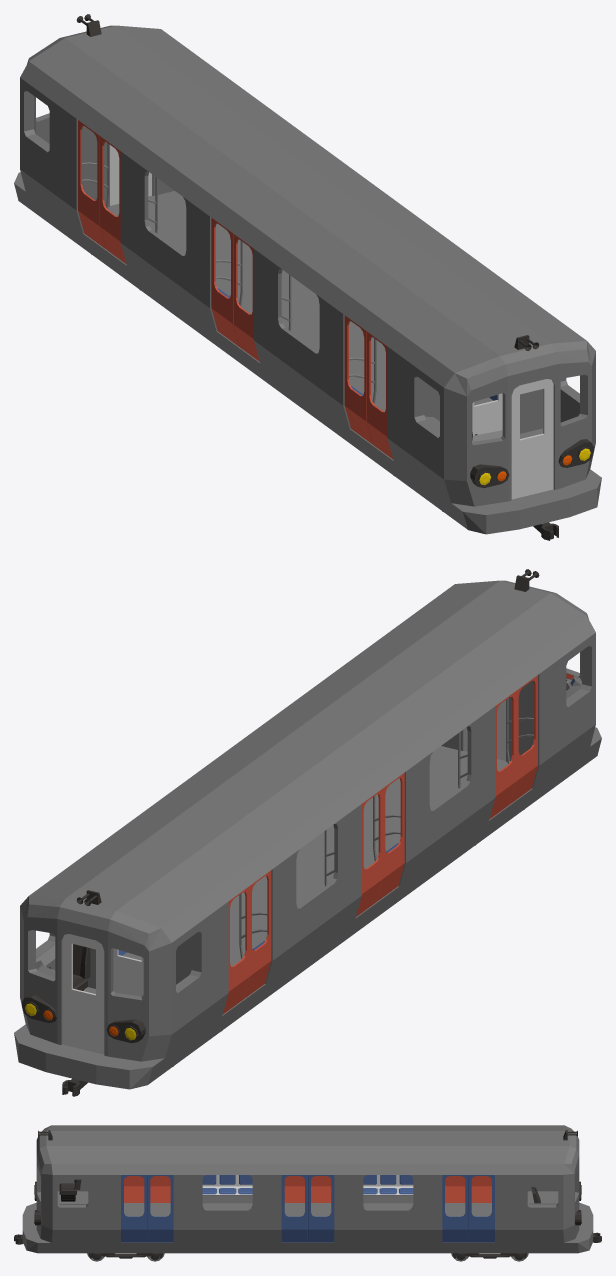
The model's file is Subways.fbx.
3 views of the same model, one above another, from view 1: azimuth 30°, elevation 25°; view 2: azimuth 150°, elevation 25°; view 3: azimuth 270°, elevation 25° (orthographic). The views are drawn at different scales.
Parts seen in each view (by area): view 1: SM_Subway_Car, SM_Subway_Rear_Door_01, Left_3, Left_2, Left, Right_2, Right_3, Right, SM_Subway_Rear_Door_02; view 2: SM_Subway_Car, SM_Subway_Front_Door_01, Right_2, Right, Right_3, Left, Left_2, Left_3, SM_Subway_Front_Door_02; view 3: SM_Subway_Car, Right_5, Right_4, Left_4, Left_5, Right_6, Left_6, Right, Right_3, Left_3, Left, Right_2 (+3 smaller).
Part boxes in pixels (x1,y1,x2,y2): SM_Subway_Car: (14,14,601,540); SM_Subway_Rear_Door_01: (511,379,553,499); Left_3: (344,315,372,444); Left_2: (211,218,239,346); Left: (78,120,105,248); Right_2: (233,234,259,361); Right_3: (367,331,392,458); Right: (100,136,126,263); SM_Subway_Rear_Door_02: (472,393,502,435); SM_Subway_Car: (14,569,601,1096); SM_Subway_Front_Door_01: (62,934,104,1054); Right_2: (376,773,404,901); Right: (243,870,271,999); Right_3: (510,675,537,803); Left: (223,886,249,1014); Left_2: (356,789,382,916); Left_3: (489,691,515,818); SM_Subway_Front_Door_02: (113,948,143,996); SM_Subway_Car: (14,1125,601,1253); Right_5: (147,1175,173,1242); Right_4: (468,1175,494,1242); Left_4: (442,1175,468,1242); Left_5: (121,1175,147,1242); Right_6: (308,1175,334,1242); Left_6: (281,1175,307,1242); Right: (445,1176,465,1202); Right_3: (124,1176,144,1202); Left_3: (150,1176,170,1202); Left: (471,1176,491,1202); Right_2: (284,1176,304,1202).
Size of the model in its own units: 300 by 382 by 1671.
